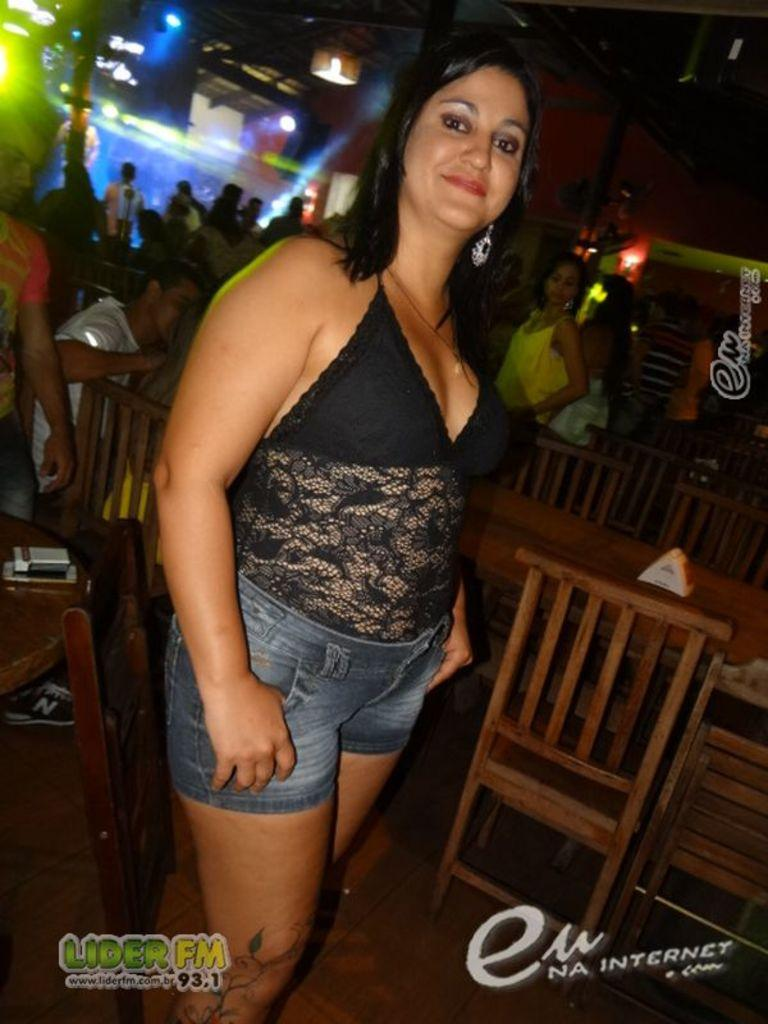Chair: (428, 550, 736, 970), (595, 640, 767, 992), (51, 375, 221, 666), (517, 389, 767, 540)
